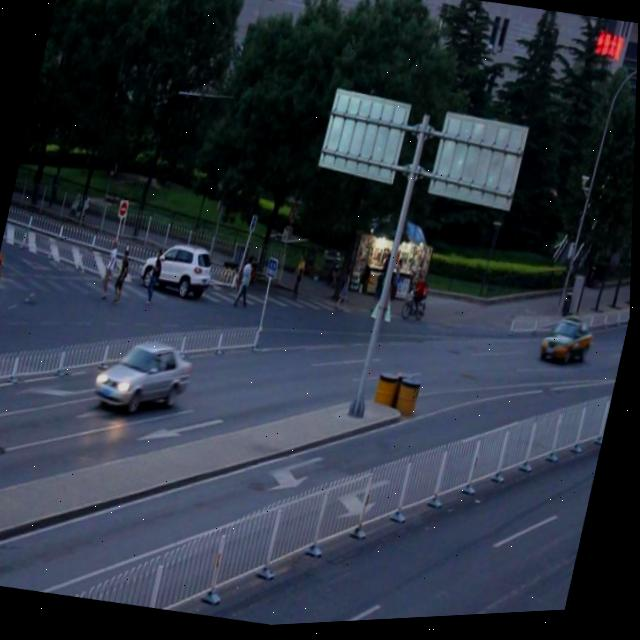car: (93, 329, 201, 422), (140, 238, 218, 305), (537, 312, 600, 374)
